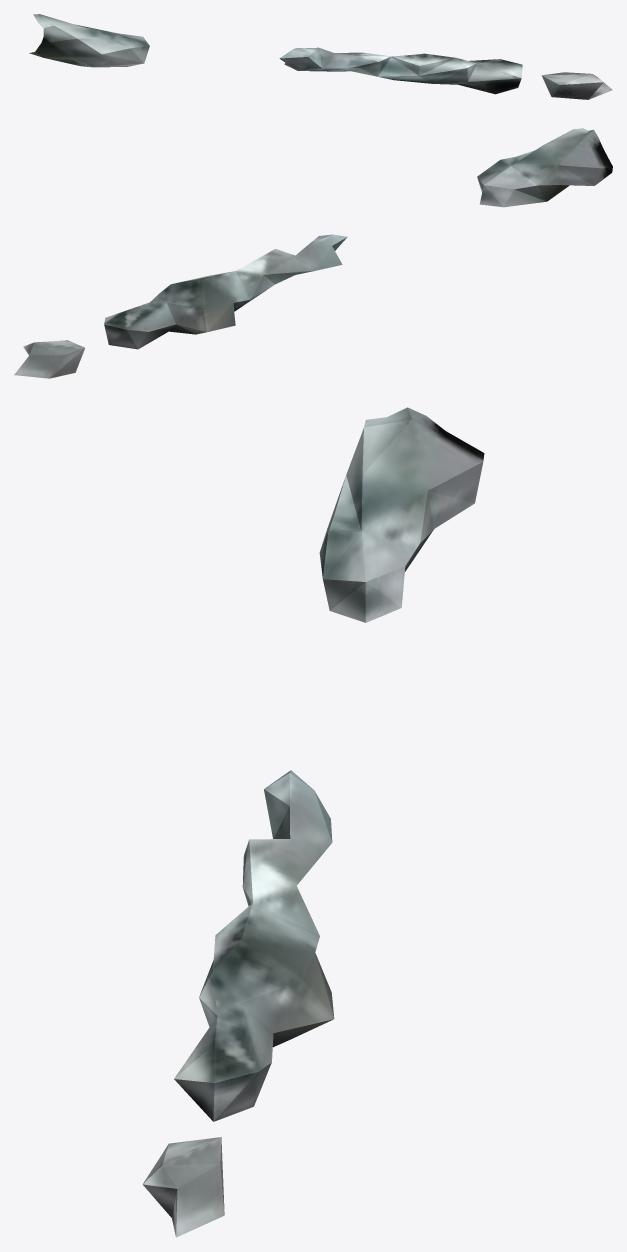
The picture shows the model from 3 angles, top to bottom: view 1: azimuth 30°, elevation 25°; view 2: azimuth 210°, elevation 25°; view 3: azimuth 270°, elevation 25°; orthographic projection. The views are drawn at different scales.
Size of the model in its own units: 2.64 by 0.7899 by 0.7491.
1 material, 1 textured.
